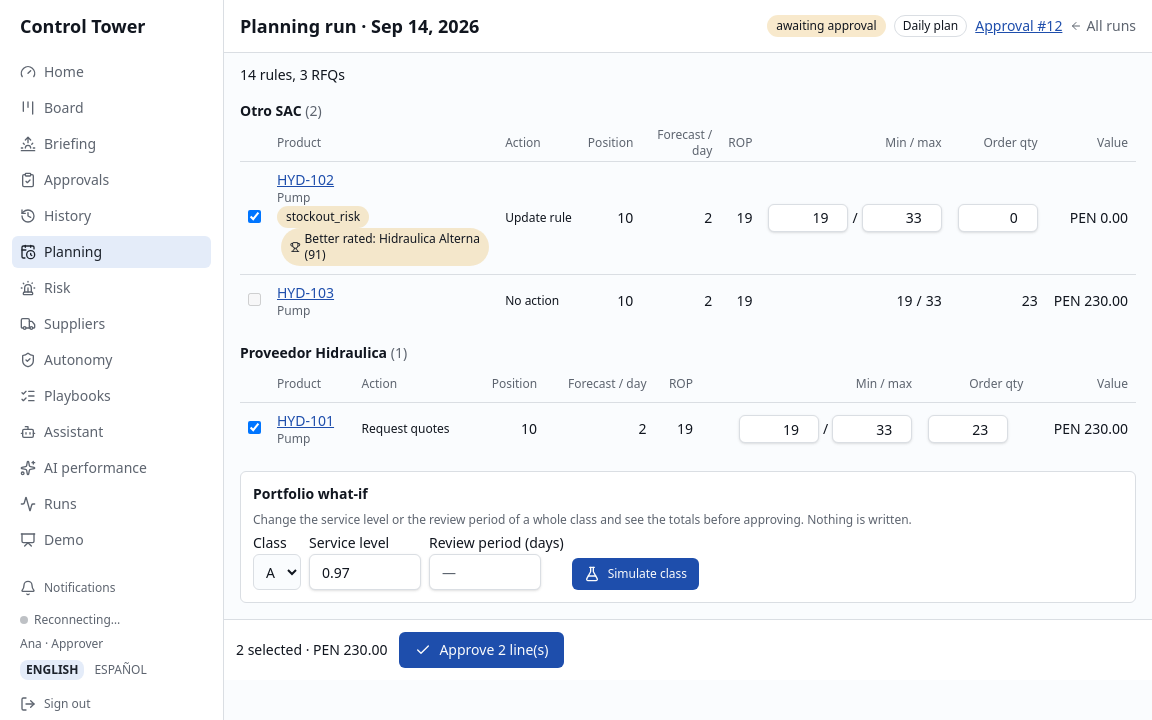
Test: planning review › groups lines by supplier, edits a quantity and approves only the selected lines
Expected: the heading "Proveedor Hidraulica (1)" is shown, top-left (240, 342), bottom-right (407, 362)
Expected: the heading "Otro SAC (2)" is shown, top-left (240, 101), bottom-right (322, 120)
Step 1. Clear the number field named "HYD-101 qty" → {"x": 968, "y": 429}, box top-left (928, 415), bottom-right (1008, 443)
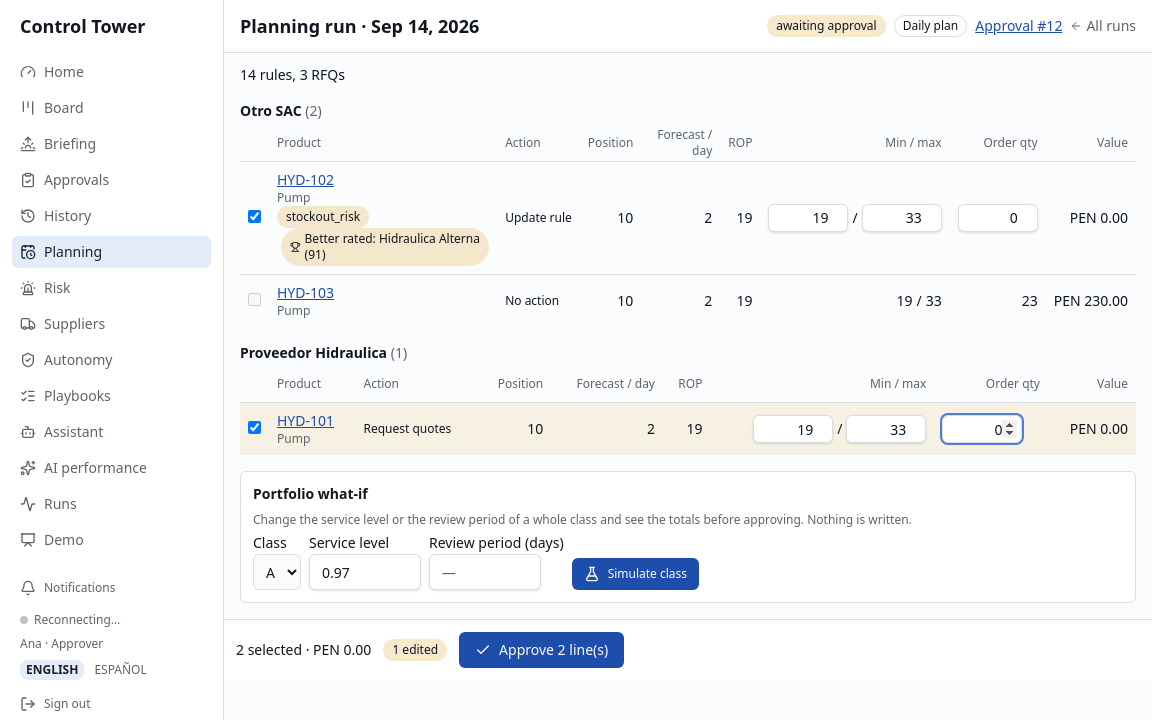
Step 2. Type "30" into the number field named "HYD-101 qty" → {"x": 982, "y": 429}, box top-left (942, 415), bottom-right (1022, 443)
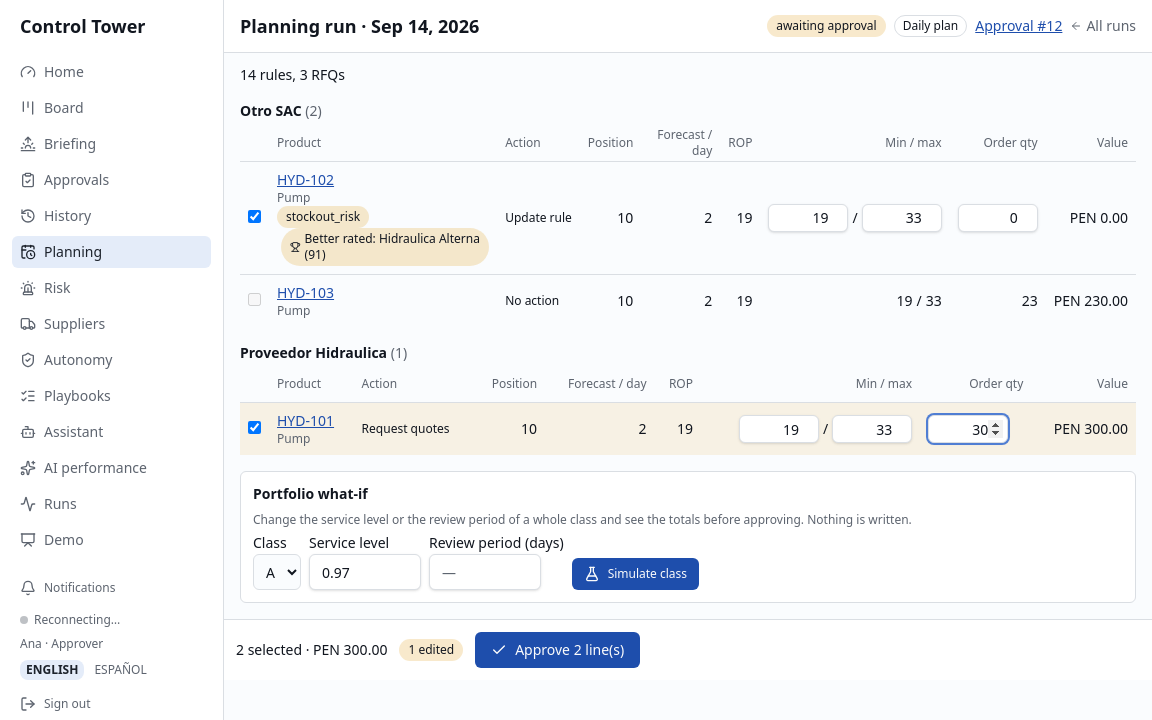
Expected: the text "1 edited" is shown, top-left (399, 639), bottom-right (463, 661)
Step 3. Click the checkbox named "HYD-102" → {"x": 254, "y": 216}, box top-left (248, 210), bottom-right (261, 222)
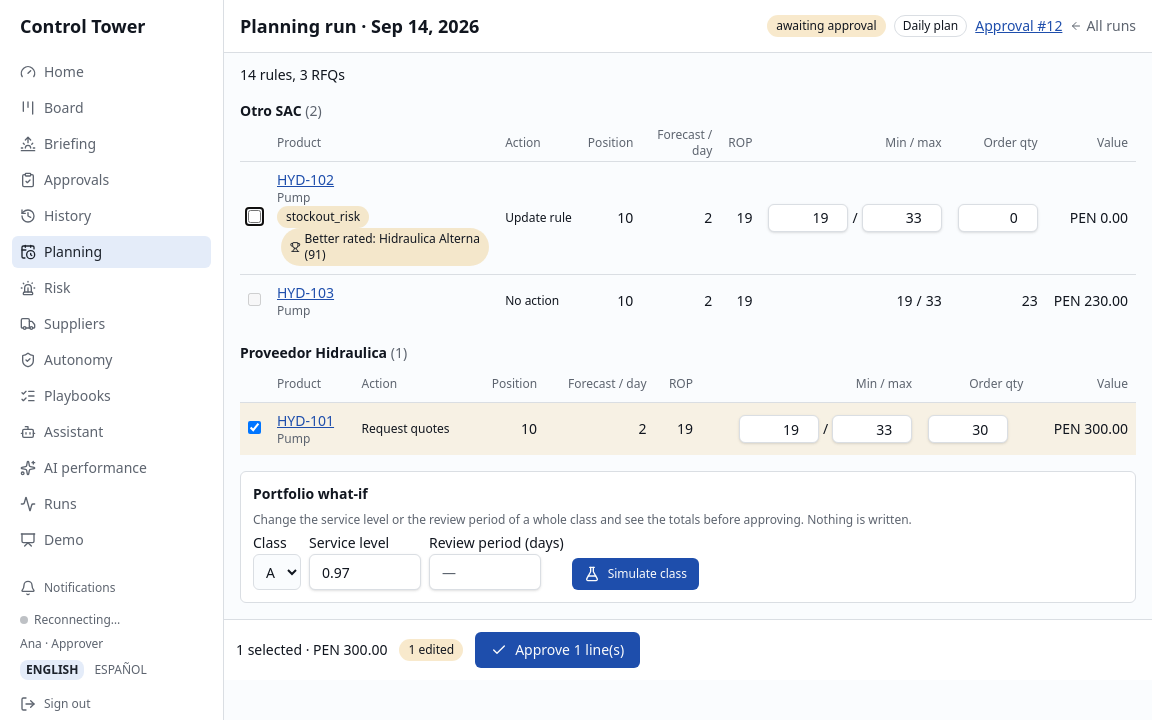
Step 4. Click the button "Approve 1 line(s)" → {"x": 558, "y": 650}, box top-left (475, 632), bottom-right (640, 668)
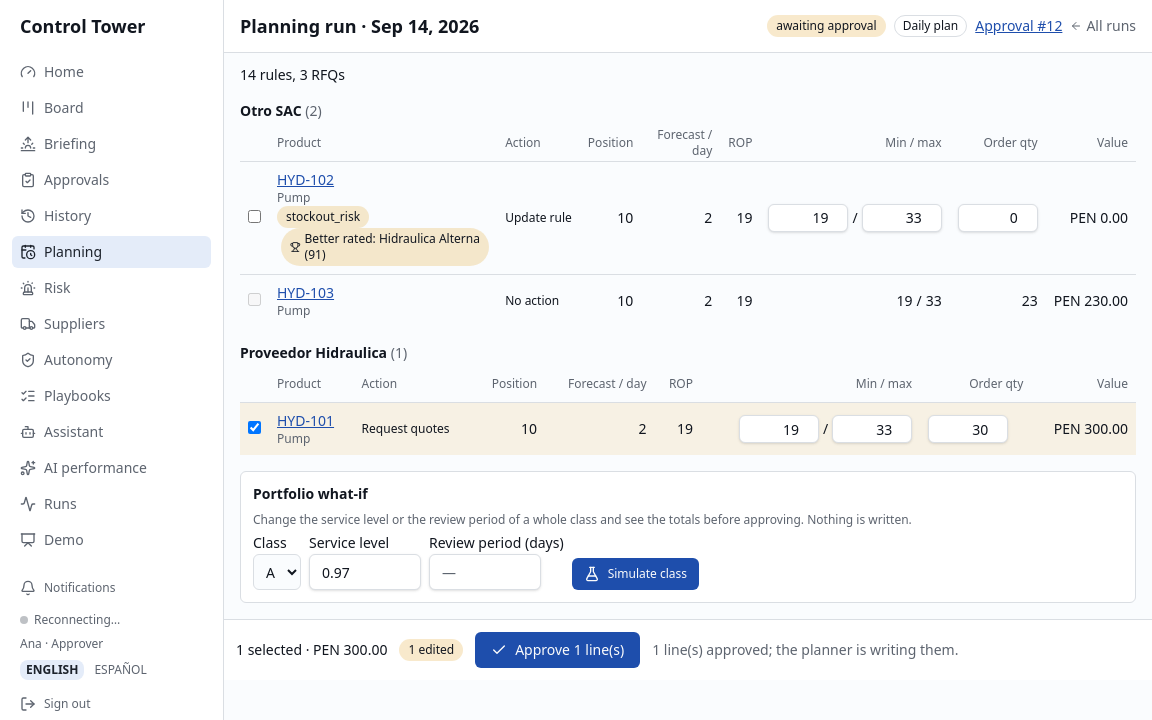
Expected: the message shows "1 line(s) approved", top-left (652, 640), bottom-right (958, 659)
